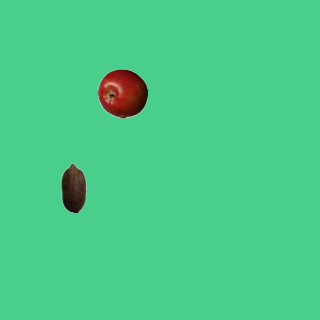Apple Braeburn: (97, 68, 147, 118)
Nut Pecan: (48, 162, 98, 212)
